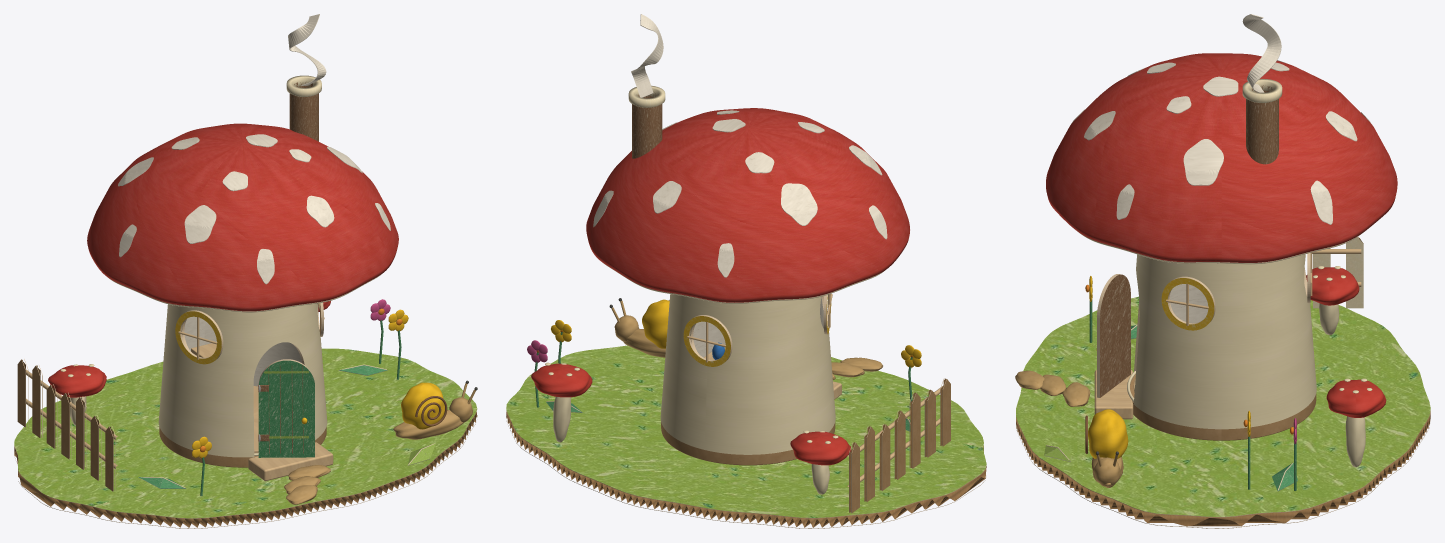
The model's file is 31_toadstool_cottage.glb.
3 renders of one model, left to right at view 1: azimuth 30°, elevation 25°; view 2: azimuth 150°, elevation 25°; view 3: azimuth 270°, elevation 25°, orthographic. The views are drawn at different scales.
Visible parts, largest first — view 1: paint_red, artwork_31_toadstool_cottage, paint_cream, paper, kraft, flute, wood_light, edge, clay_sand, clay_yellow, clay_red, brown (+3 smaller); view 2: paint_red, artwork_31_toadstool_cottage, paint_cream, paper, kraft, flute, clay_red, edge, clay_sand, clay_yellow, brown, clay_cream (+3 smaller); view 3: paint_red, artwork_31_toadstool_cottage, paint_cream, paper, brown, flute, clay_red, cream, clay_sand, kraft, edge, clay_yellow (+4 smaller).
Boxes of the visible parts, bbox=[...] form: paint_red: bbox=[87, 123, 398, 311]; artwork_31_toadstool_cottage: bbox=[14, 348, 477, 518]; paint_cream: bbox=[158, 303, 327, 457]; paper: bbox=[118, 14, 429, 488]; kraft: bbox=[17, 303, 326, 491]; flute: bbox=[14, 360, 477, 527]; wood_light: bbox=[26, 303, 333, 481]; edge: bbox=[15, 302, 476, 528]; clay_sand: bbox=[284, 383, 475, 504]; clay_yellow: bbox=[192, 309, 444, 458]; clay_red: bbox=[48, 301, 330, 397]; brown: bbox=[258, 82, 318, 441]; paint_red: bbox=[586, 108, 909, 302]; artwork_31_toadstool_cottage: bbox=[506, 345, 986, 517]; paint_cream: bbox=[660, 294, 835, 454]; paper: bbox=[546, 14, 909, 431]; kraft: bbox=[661, 379, 950, 512]; flute: bbox=[506, 378, 986, 527]; clay_red: bbox=[531, 363, 851, 465]; edge: bbox=[506, 294, 985, 528]; clay_sand: bbox=[611, 300, 882, 379]; clay_yellow: bbox=[551, 299, 921, 367]; brown: bbox=[632, 93, 662, 158]; clay_cream: bbox=[545, 362, 838, 494]; paint_red: bbox=[1046, 53, 1397, 262]; artwork_31_toadstool_cottage: bbox=[1016, 296, 1430, 516]; paint_cream: bbox=[1134, 254, 1316, 429]; paper: bbox=[1044, 14, 1370, 491]; brown: bbox=[1100, 85, 1278, 397]; flute: bbox=[1016, 237, 1430, 526]; clay_red: bbox=[1306, 267, 1386, 417]; cream: bbox=[1046, 78, 1364, 489]; clay_sand: bbox=[1015, 370, 1123, 487]; kraft: bbox=[1130, 374, 1316, 440]; edge: bbox=[1016, 237, 1429, 528]; clay_yellow: bbox=[1088, 276, 1250, 458].
Size of the model in its own units: 0.5014 by 0.4503 by 0.3781.
24 materials, 23 textured.
